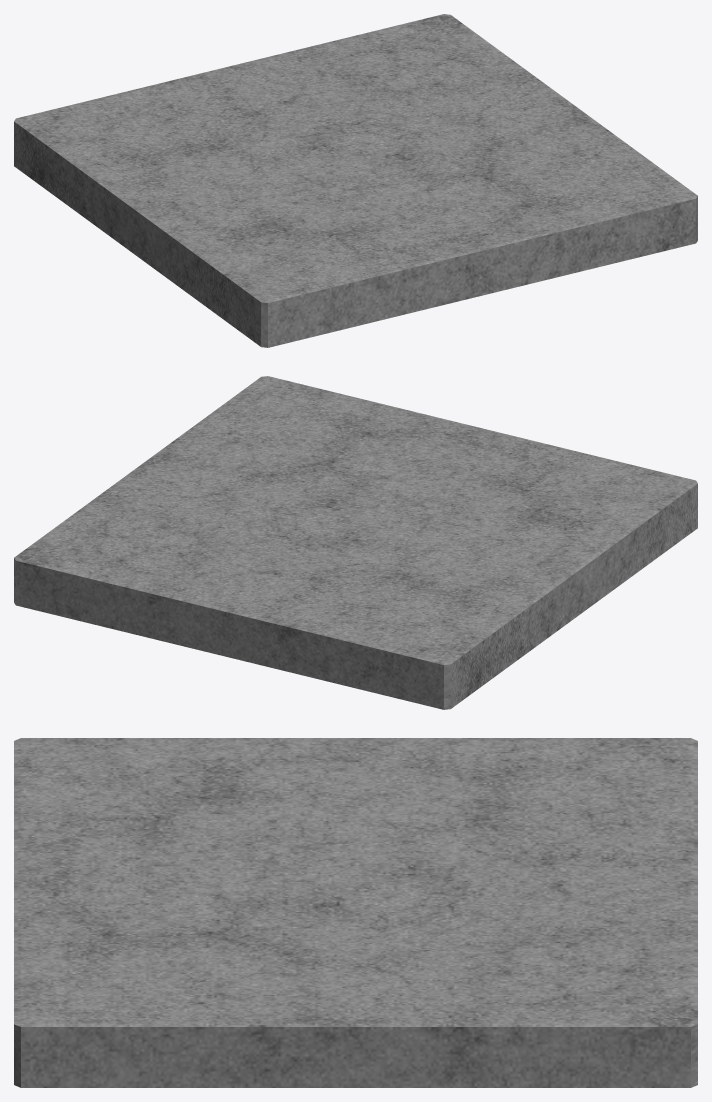
File: slab_stone.glb
3 renders of one model, top to bottom at view 1: azimuth 30°, elevation 25°; view 2: azimuth 150°, elevation 25°; view 3: azimuth 270°, elevation 25°, orthographic. The views are drawn at different scales.
Visible parts, largest first — view 1: Cube; view 2: Cube; view 3: Cube.
Boxes of the visible parts, x1=… form: Cube: x1=14, y1=14, x2=697, y2=347; Cube: x1=14, y1=376, x2=697, y2=709; Cube: x1=14, y1=738, x2=697, y2=1087.
Bounding box in the file's own units: 1 × 0.1 × 1.
Materials: 1 (1 with a texture image).
